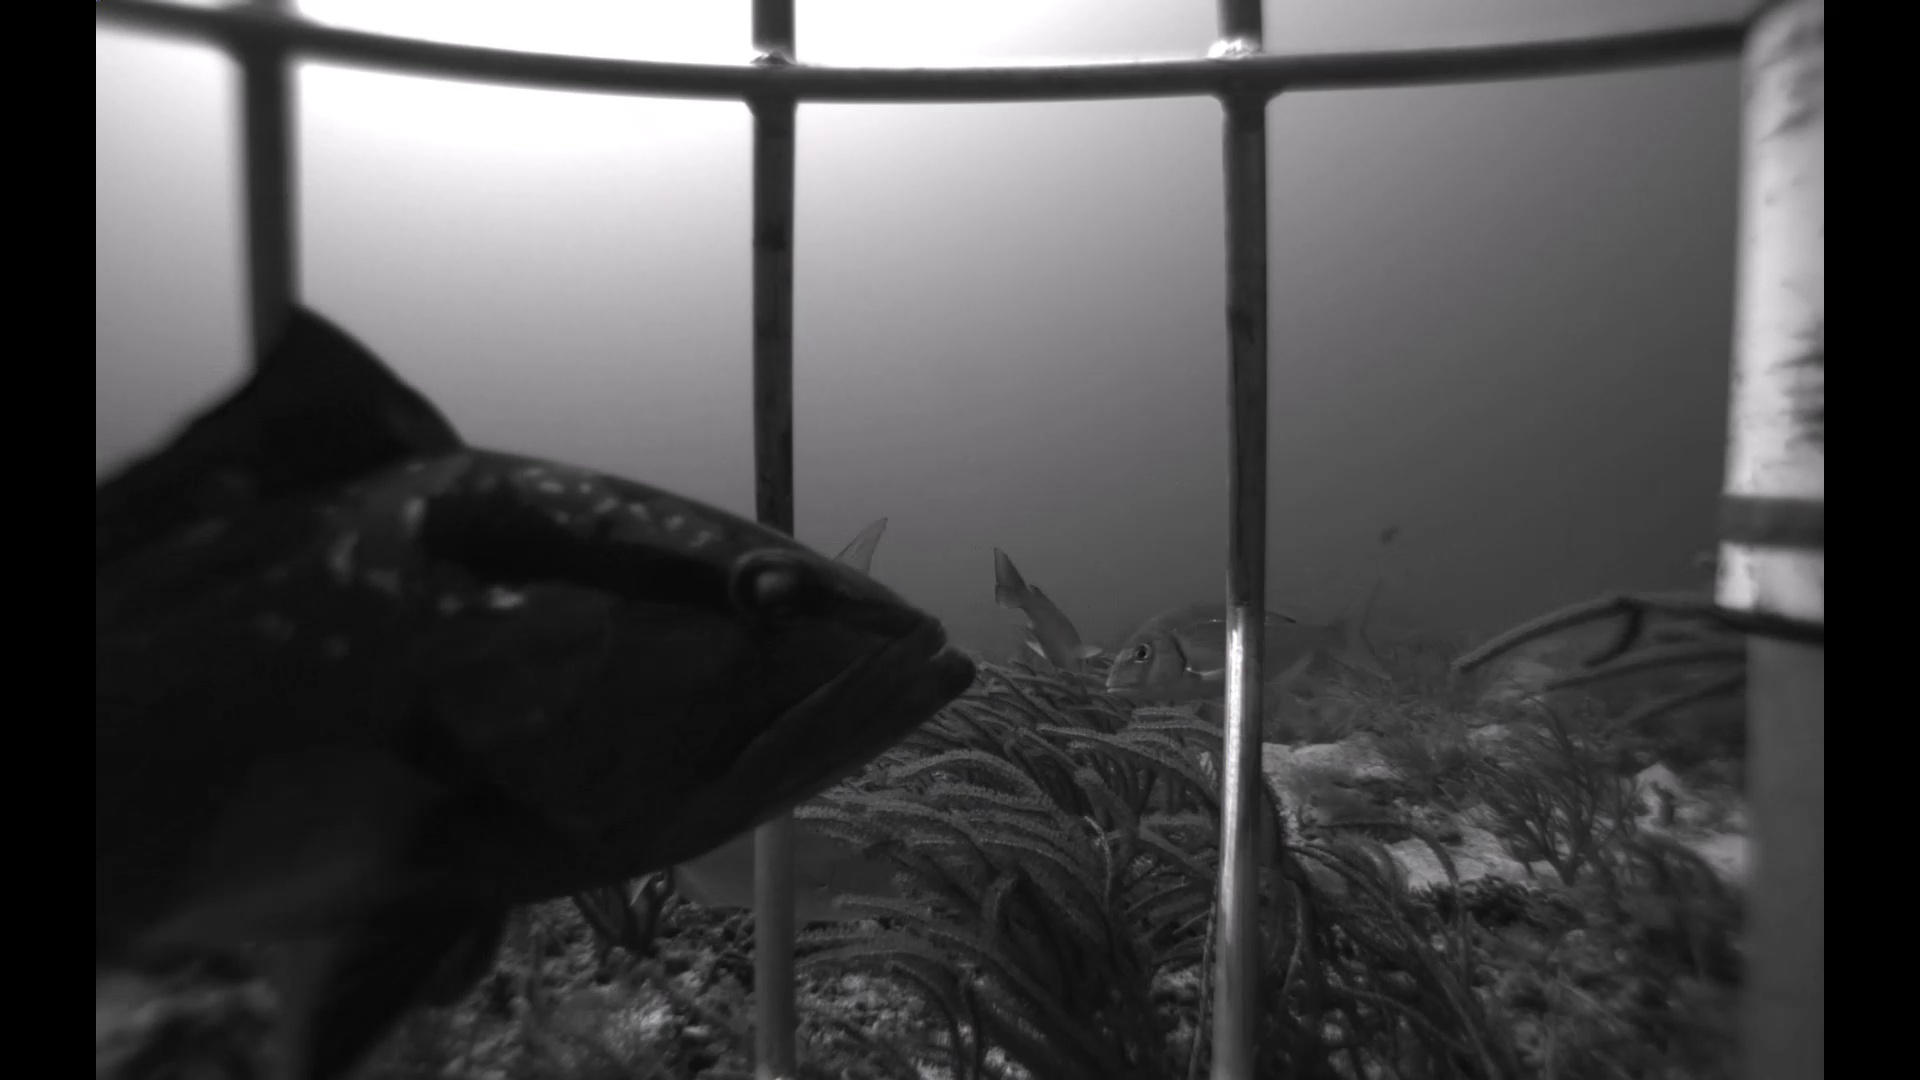CALAMUSNODOSUS-170210608: (647, 812, 886, 938)
EPINEPHELUSMORIO-170021211: (108, 291, 975, 1080)
LUTJANUSGRISEUS-170151109: (976, 539, 1109, 688), (1153, 698, 1224, 733)
PAGRUSPAGRUS-170212302: (1091, 575, 1403, 715), (812, 497, 903, 575)
